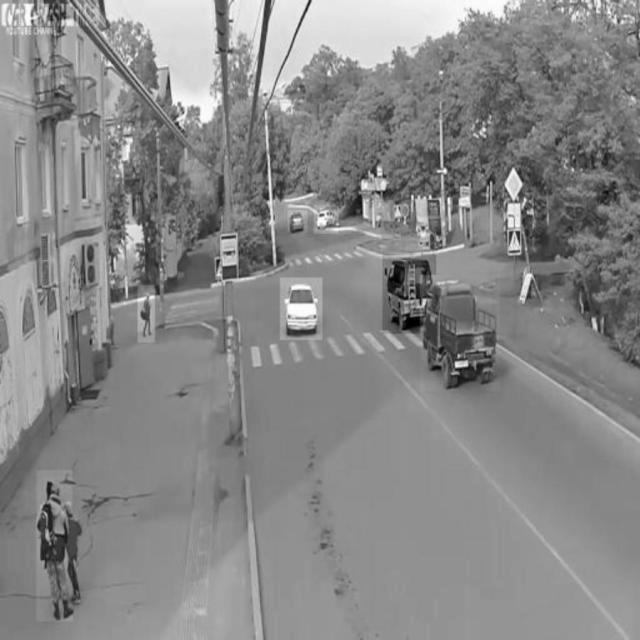person: (36, 470, 72, 621), (137, 285, 155, 342)
vehicle: (420, 275, 501, 391), (383, 254, 437, 334), (281, 278, 323, 340), (314, 205, 339, 233), (287, 209, 307, 233)
